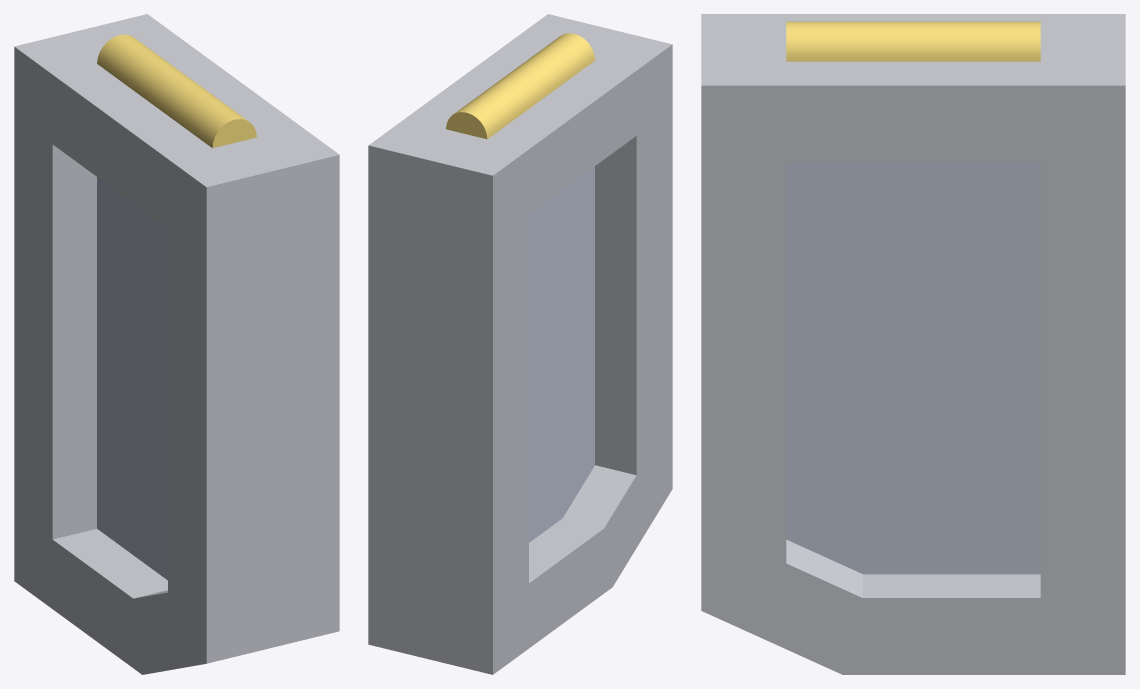
File: clipA.glb
The picture shows the model from 3 angles, left to right: view 1: azimuth 30°, elevation 25°; view 2: azimuth 150°, elevation 25°; view 3: azimuth 270°, elevation 25°; orthographic projection. The views are drawn at different scales.
Visible parts, largest first — view 1: clipA; view 2: clipA; view 3: clipA.
Part boxes in pixels (x1=…): clipA: x1=14, y1=14, x2=339, y2=674; clipA: x1=368, y1=14, x2=672, y2=674; clipA: x1=701, y1=14, x2=1125, y2=674.
Bounding box in the file's own units: 0.06 × 0.24 × 0.15.
